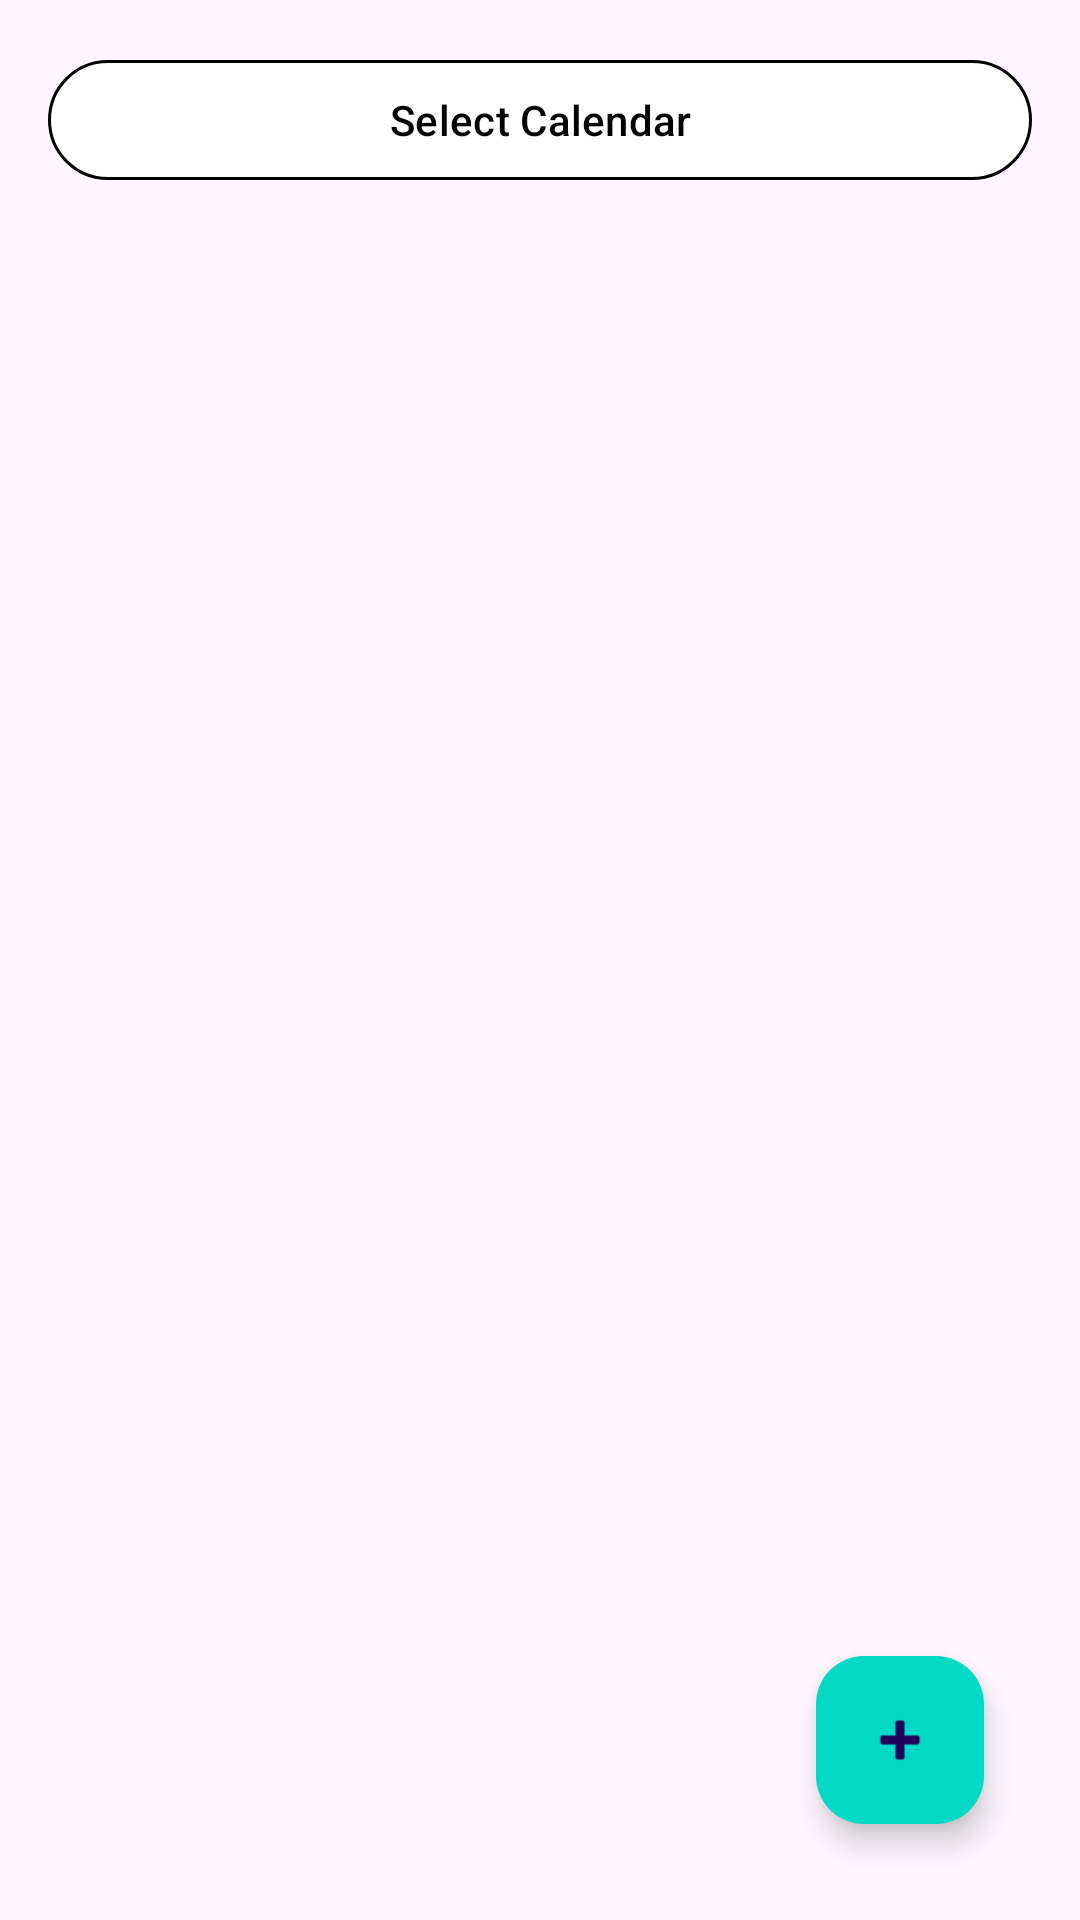

Screen size 1080 x 1920. Icon name, then its center in pixels as [x,y]:
Add Appointment: [900,1740]
